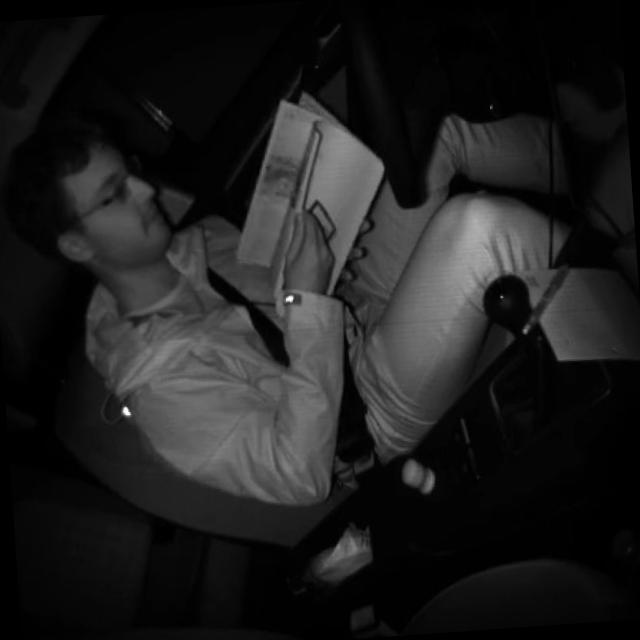pen: (516, 262, 574, 336)
